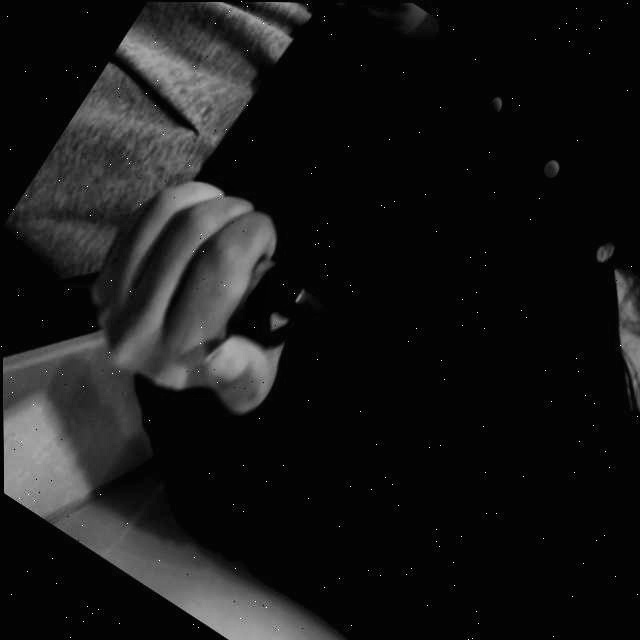Fire: (296, 283, 354, 331)
